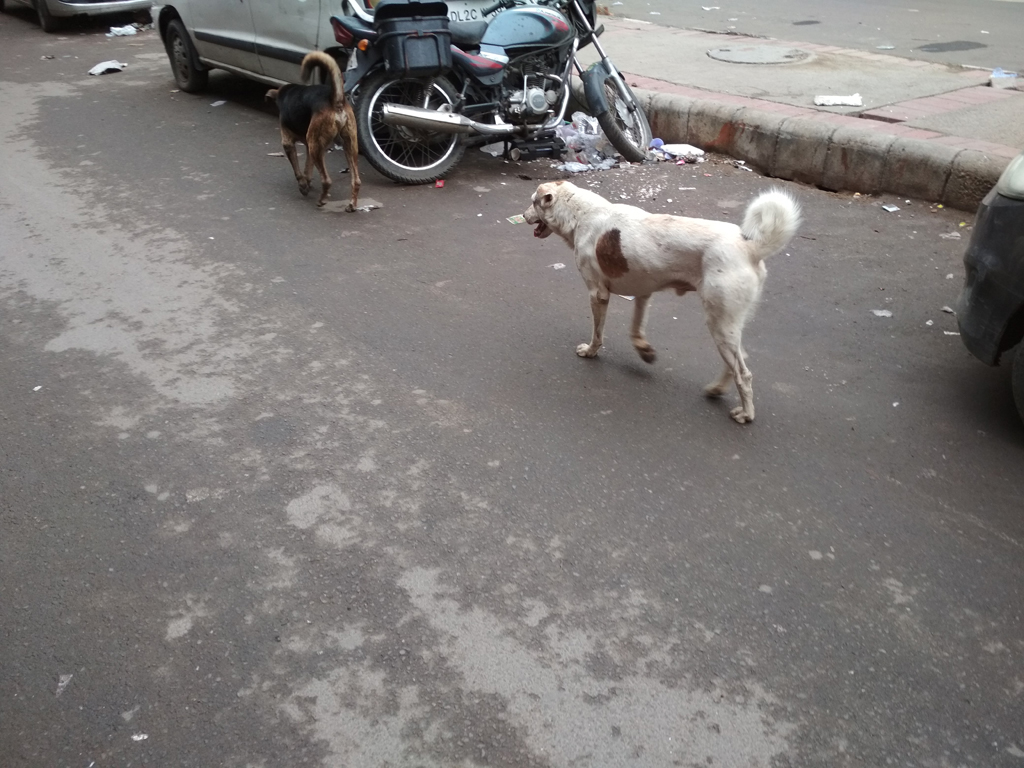dog: (521, 180, 803, 427), (265, 51, 362, 213)
